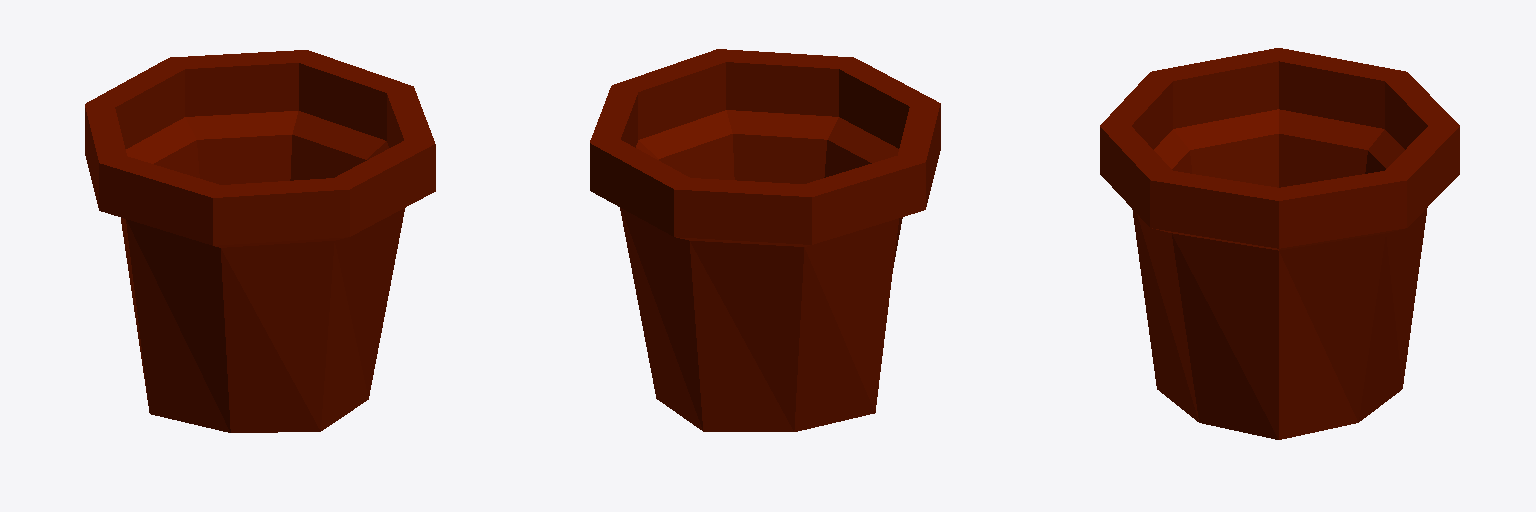
The model's file is pot.obj.
The picture shows the model from 3 angles: view 1: azimuth 30°, elevation 25°; view 2: azimuth 150°, elevation 25°; view 3: azimuth 270°, elevation 25°; orthographic projection.
Parts seen in each view (by area): view 1: Cube; view 2: Cube; view 3: Cube.
Part boxes in pixels (bbox=[...]): Cube: bbox=[85, 50, 435, 432]; Cube: bbox=[590, 49, 940, 431]; Cube: bbox=[1100, 48, 1459, 439].
Bounding box in the file's own units: 6.98 × 5.58 × 6.93.